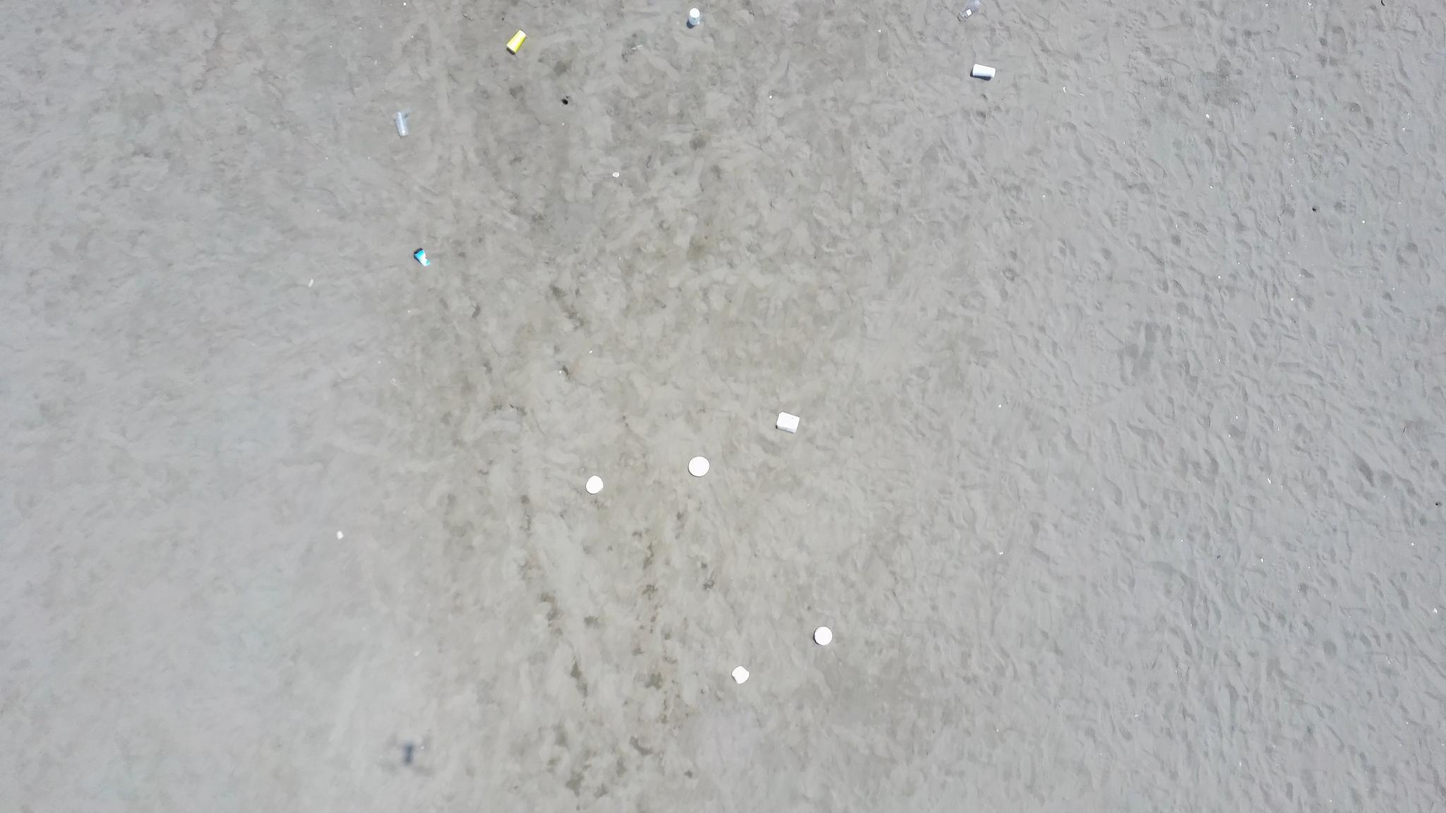Garbage: (775, 411, 799, 433), (507, 30, 526, 54), (970, 63, 995, 79), (688, 456, 708, 476), (393, 110, 408, 136), (960, 0, 980, 18), (813, 626, 832, 644), (731, 666, 748, 684), (585, 476, 602, 494), (413, 248, 429, 265), (688, 8, 700, 27), (611, 171, 619, 178), (307, 278, 313, 287), (336, 531, 342, 538)
